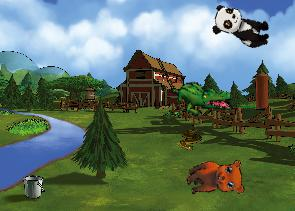bear: (182, 152, 249, 208)
crocodile: (168, 74, 234, 121)
panda: (208, 2, 275, 51)
